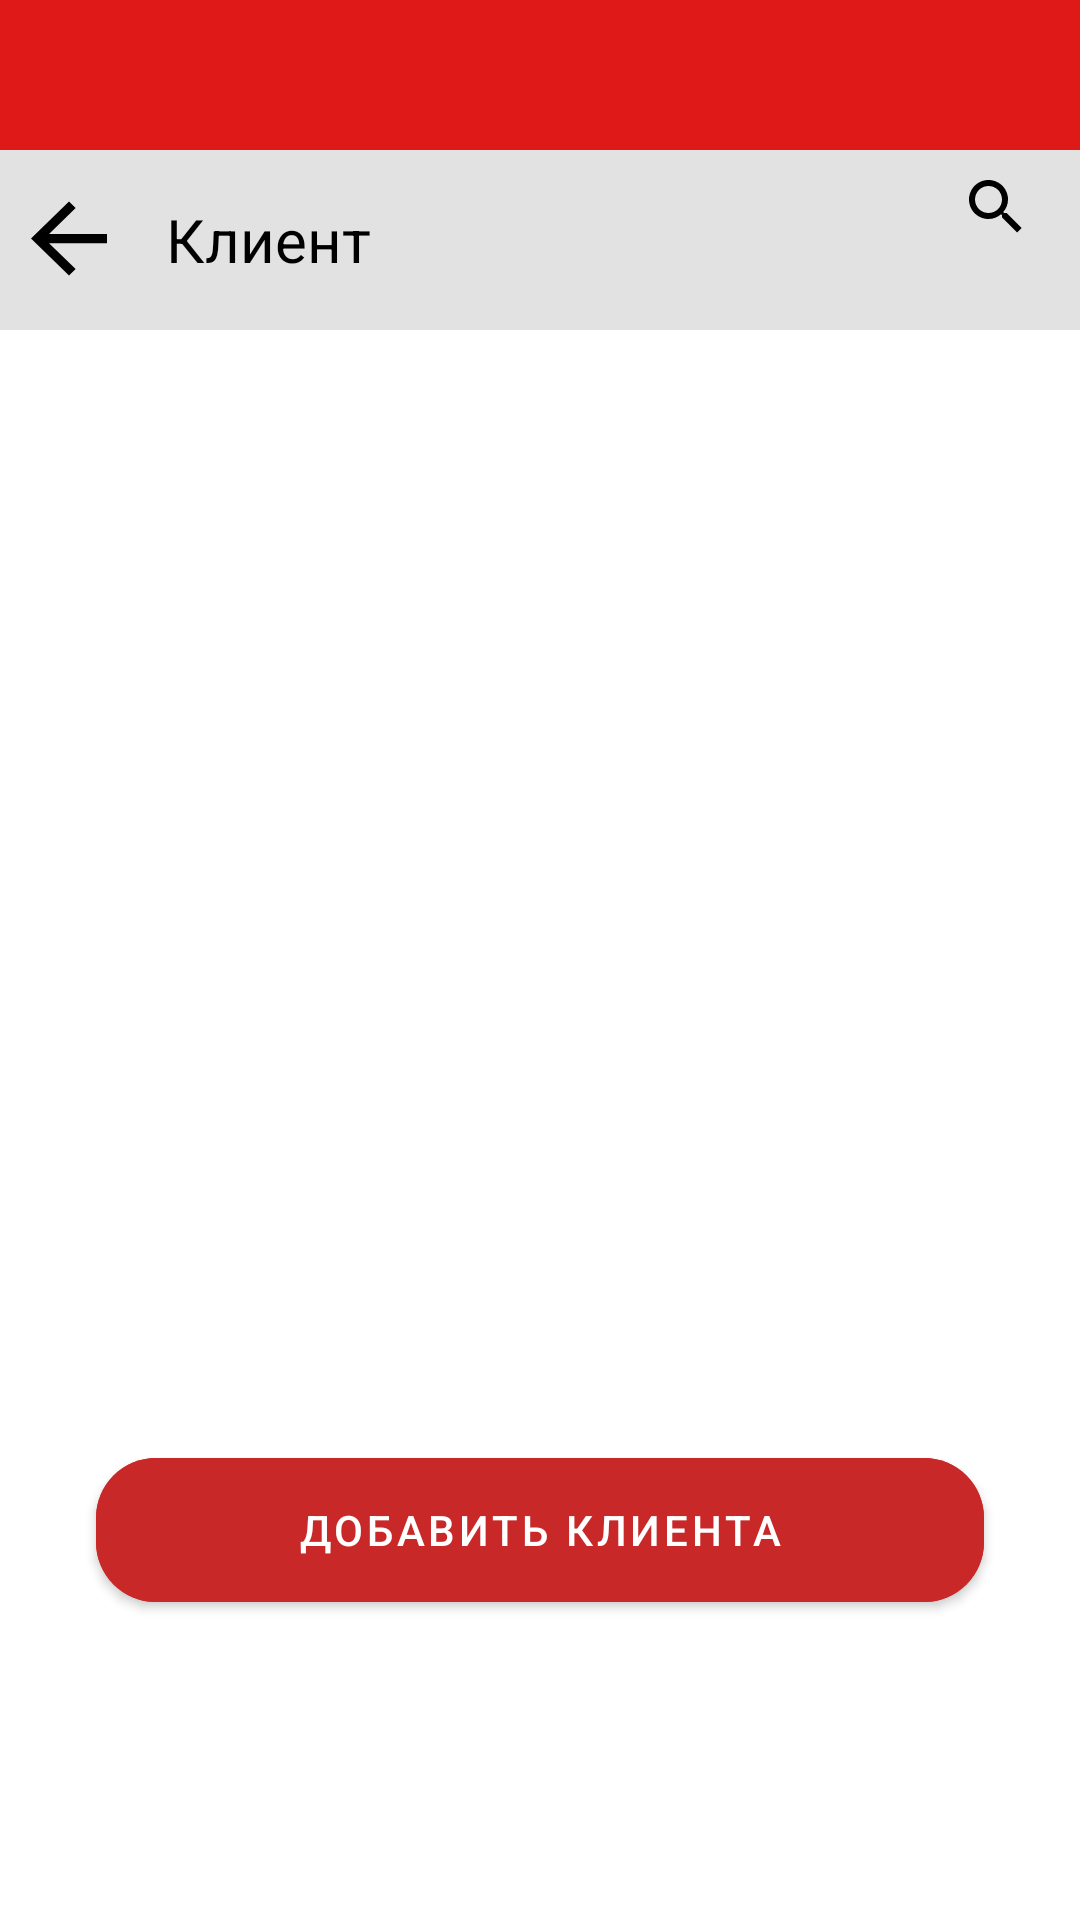

Icons on this 1080*1920 Android screen, each with the point to tap as point (x, y):
back to menu: point (69, 238)
